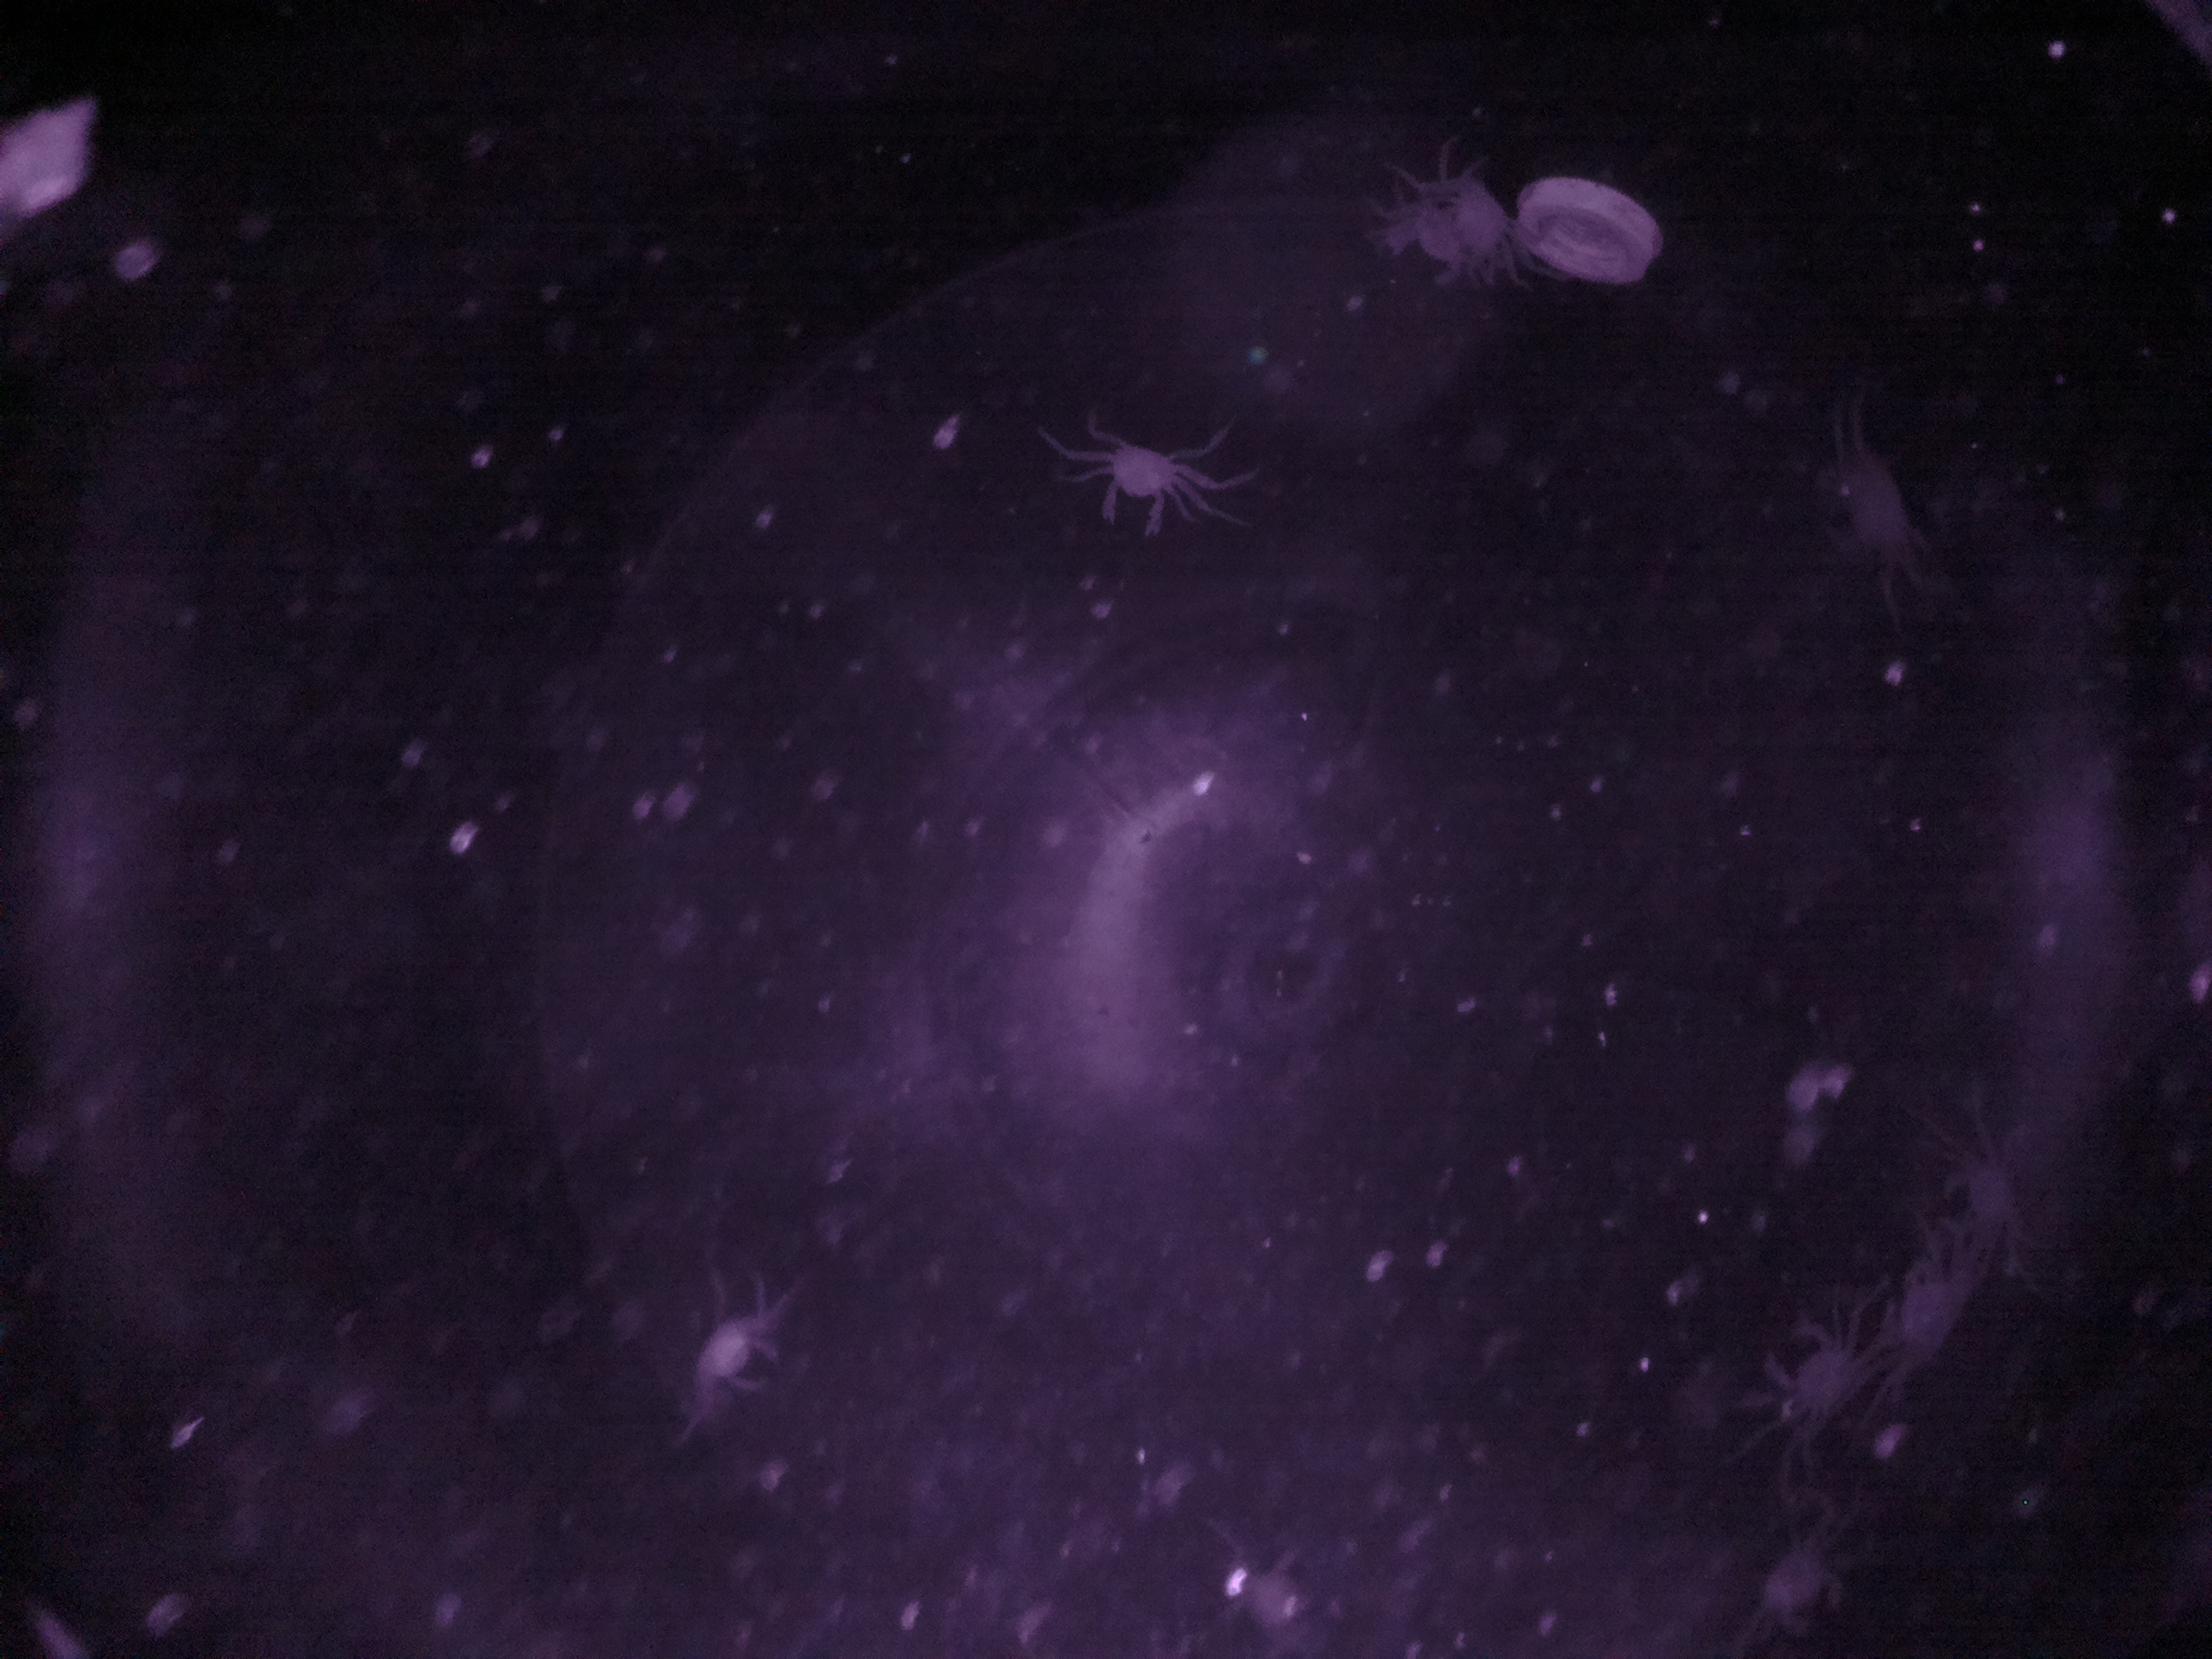Crab: (1768, 1310, 1871, 1439), (1090, 427, 1190, 542)
